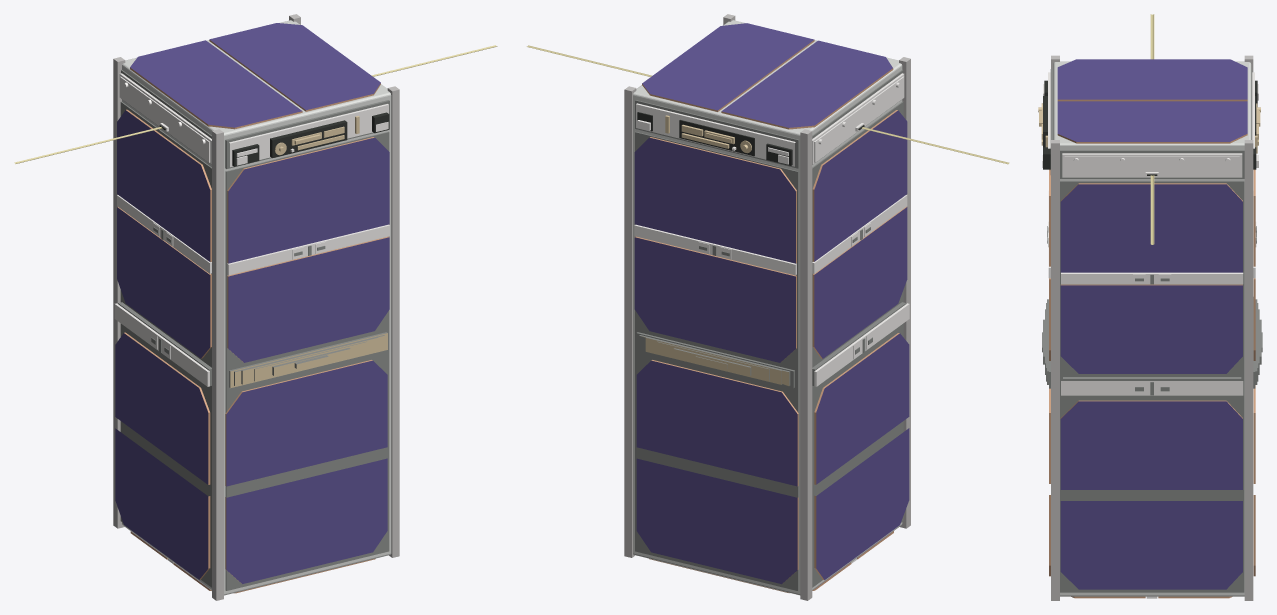
The model's file is cubesat-2-ru-generic.glb.
3 views of the same model, side by side, from view 1: azimuth 30°, elevation 25°; view 2: azimuth 150°, elevation 25°; view 3: azimuth 270°, elevation 25° (orthographic). The views are drawn at different scales.
Parts seen in each view (by area): view 1: Layer_0; view 2: Layer_0; view 3: Layer_0.
Part boxes in pixels (box(x1,y1,x2,y2)): Layer_0: box(14, 14, 497, 600); Layer_0: box(527, 14, 1009, 600); Layer_0: box(1038, 14, 1262, 600).
Bounding box in the file's own units: 5.39 × 5 × 2.21.
2 materials, 2 textured.
